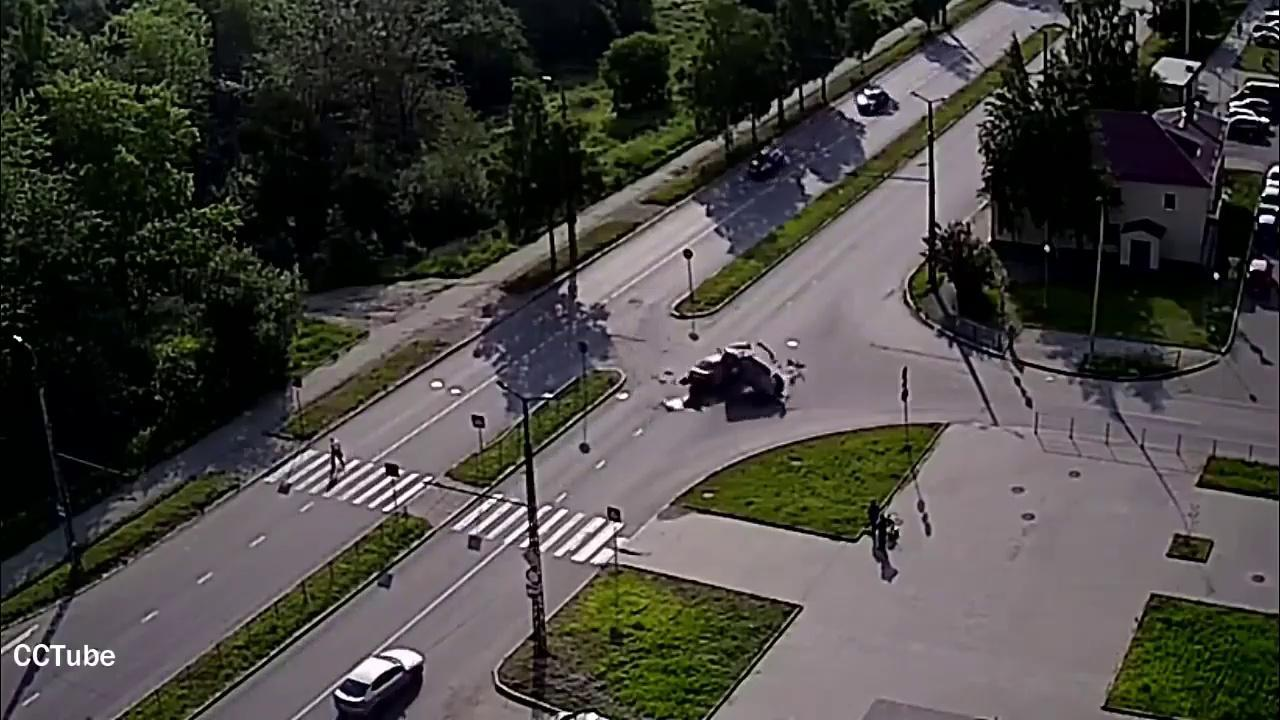car-accident: (662, 337, 802, 427)
